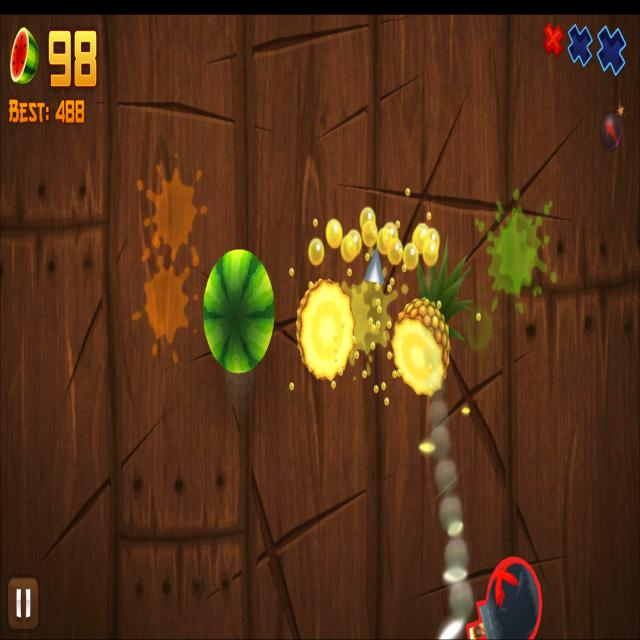bomb: (466, 555, 541, 640)
fruit: (202, 248, 276, 374)
